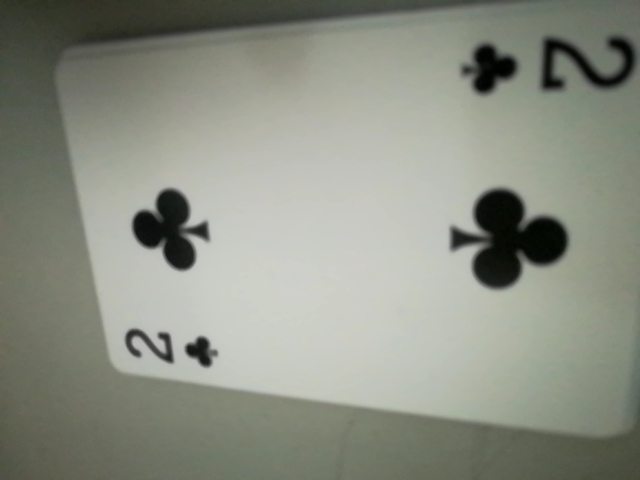mh 2: (457, 22, 640, 110), (117, 321, 231, 375)
